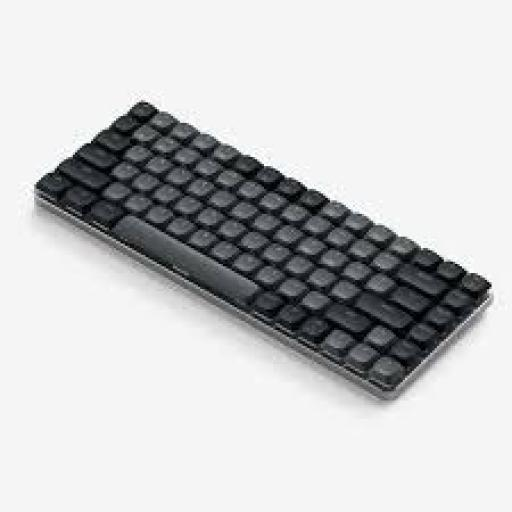keyboard: (36, 102, 489, 394)
